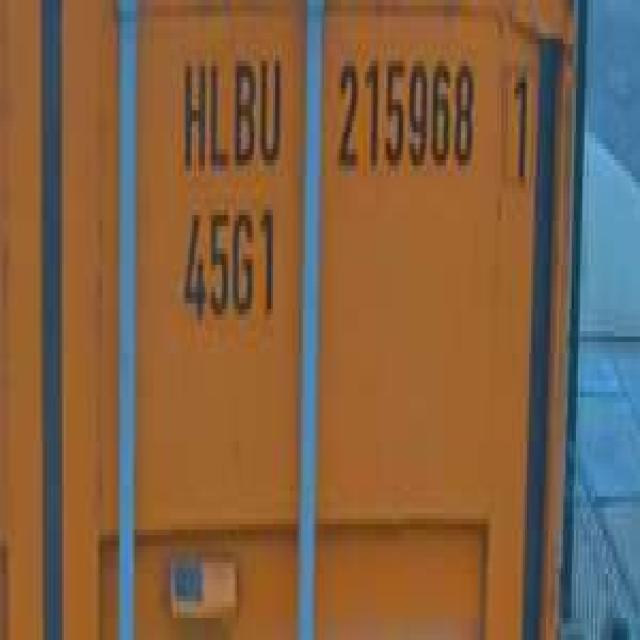dv: (501, 49, 537, 190)
owner: (178, 34, 286, 174)
serial: (330, 44, 477, 185)
size: (177, 198, 281, 330)
